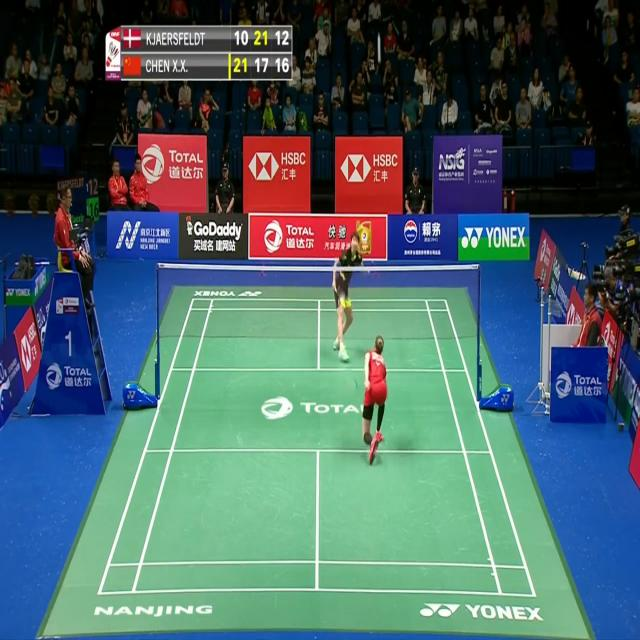Player1: (355, 324, 391, 470)
Player2: (327, 230, 373, 372)
